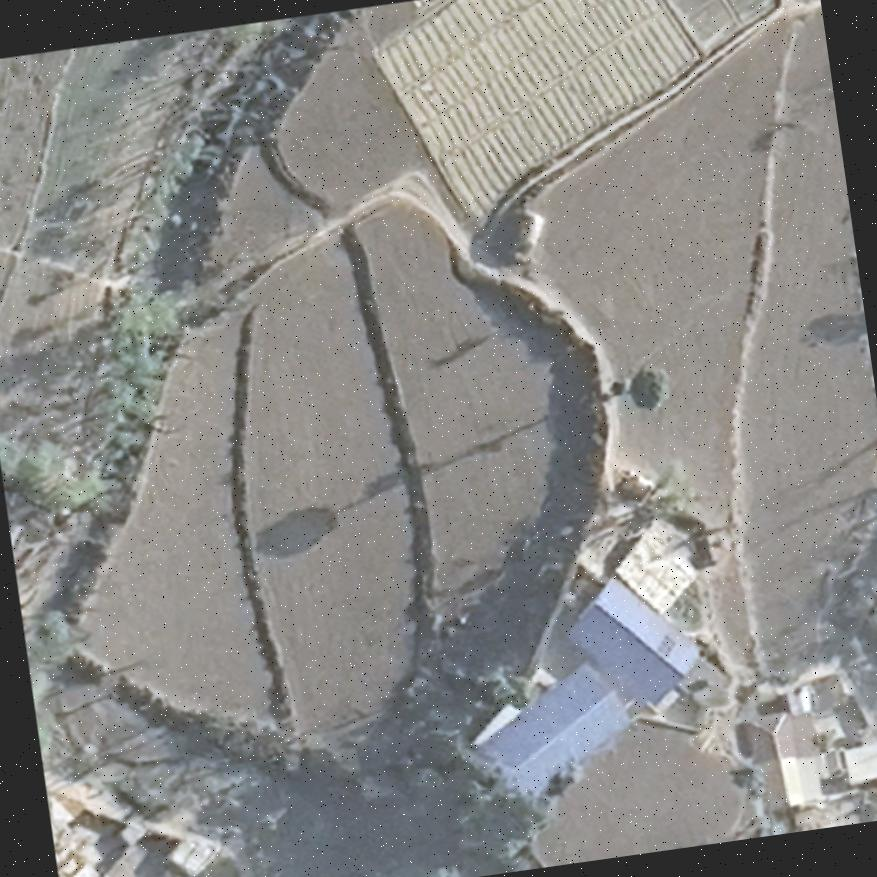Solarpanel: (654, 631, 677, 659)
